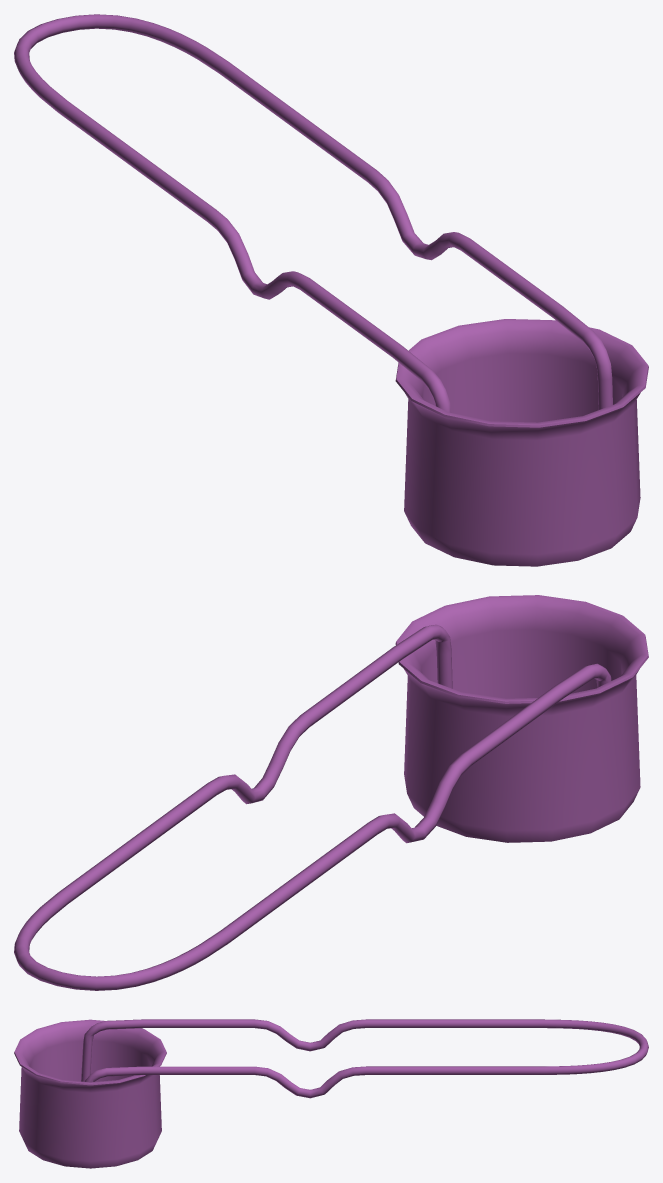
File: seguranca-obj_isqueiro.fbx
The picture shows the model from 3 angles, top to bottom: view 1: azimuth 30°, elevation 25°; view 2: azimuth 150°, elevation 25°; view 3: azimuth 270°, elevation 25°; orthographic projection. The views are drawn at different scales.
Parts seen in each view (by area): view 1: Isqueiro; view 2: Isqueiro; view 3: Isqueiro.
Part boxes in pixels (bbox=[...]): Isqueiro: bbox=[14, 14, 648, 566]; Isqueiro: bbox=[14, 595, 648, 990]; Isqueiro: bbox=[14, 1019, 648, 1168].
Bounding box in the file's own units: 2.75 × 2 × 11.42.
